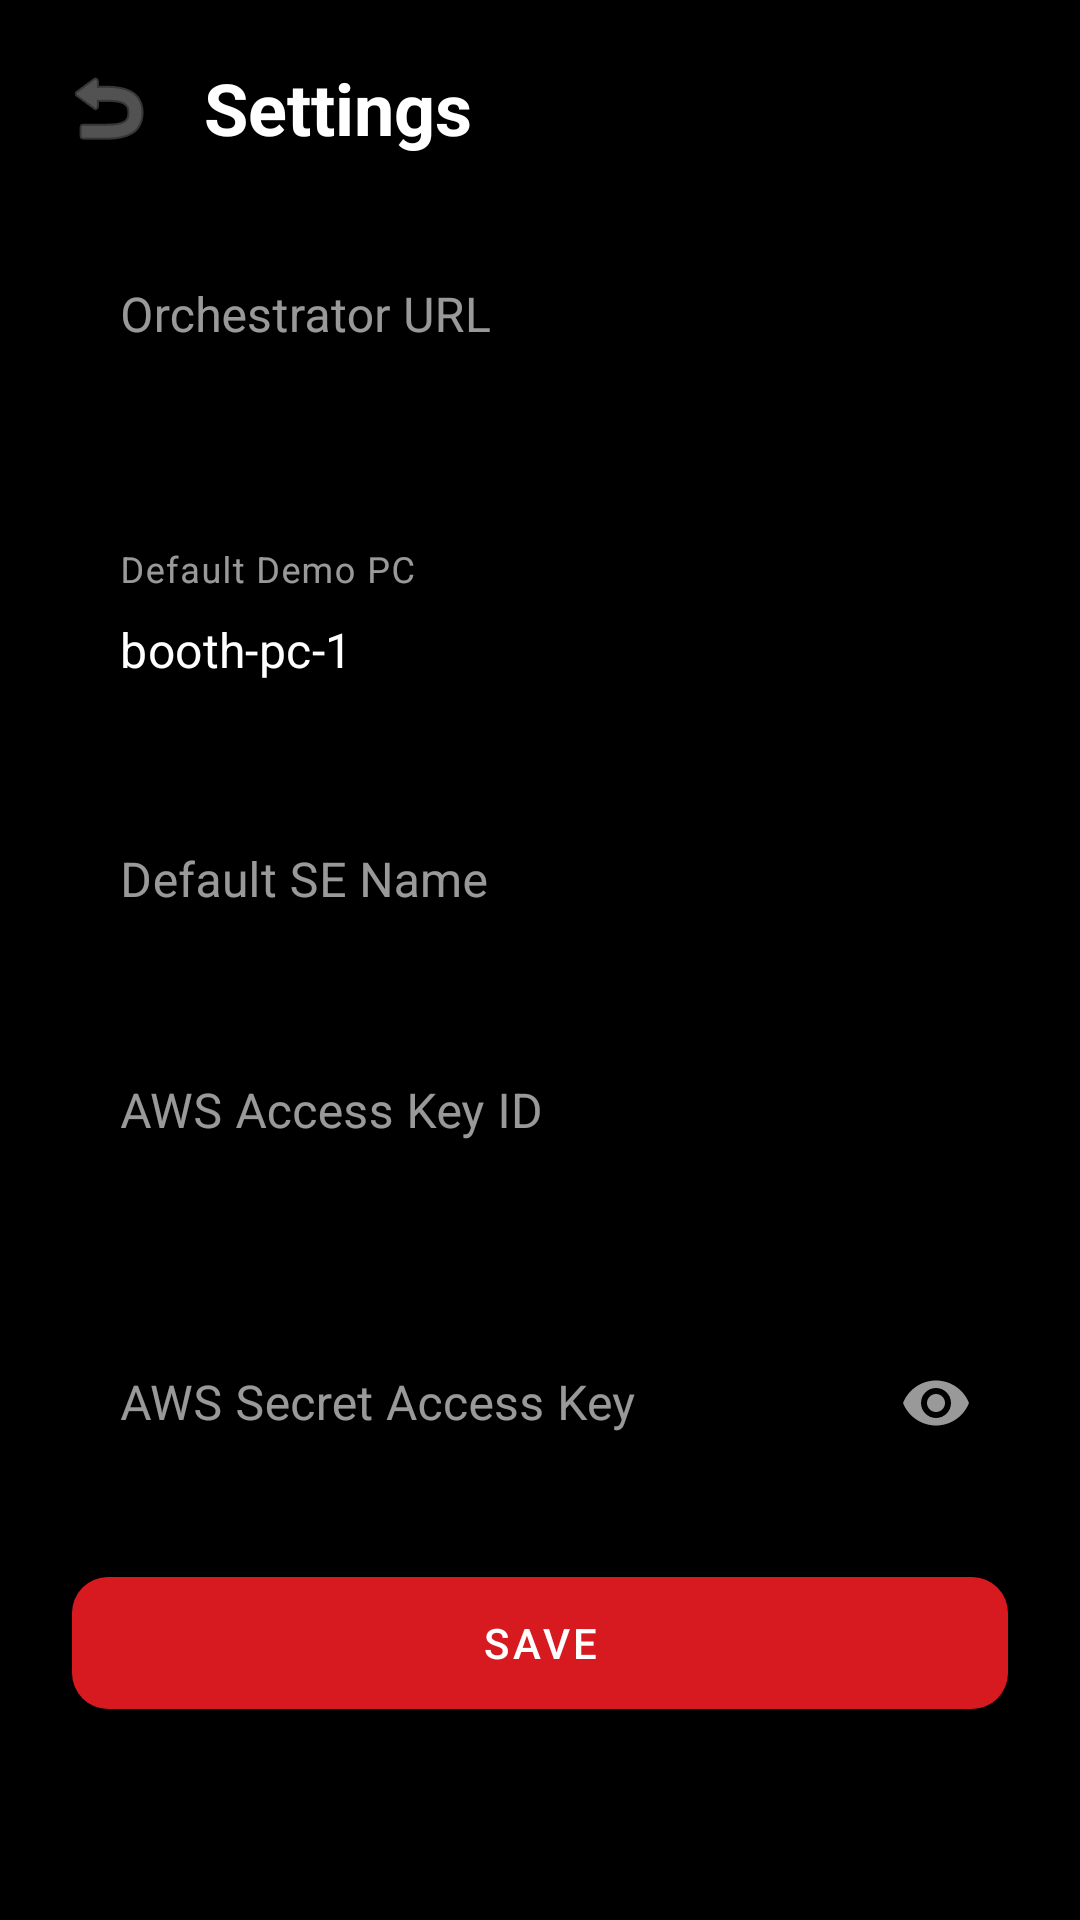

Icon bounding boxes for this 1080 x 1920 phone screenshot, format box=[x1, y1, x2, y2]:
Back: box=[75, 78, 144, 140]
